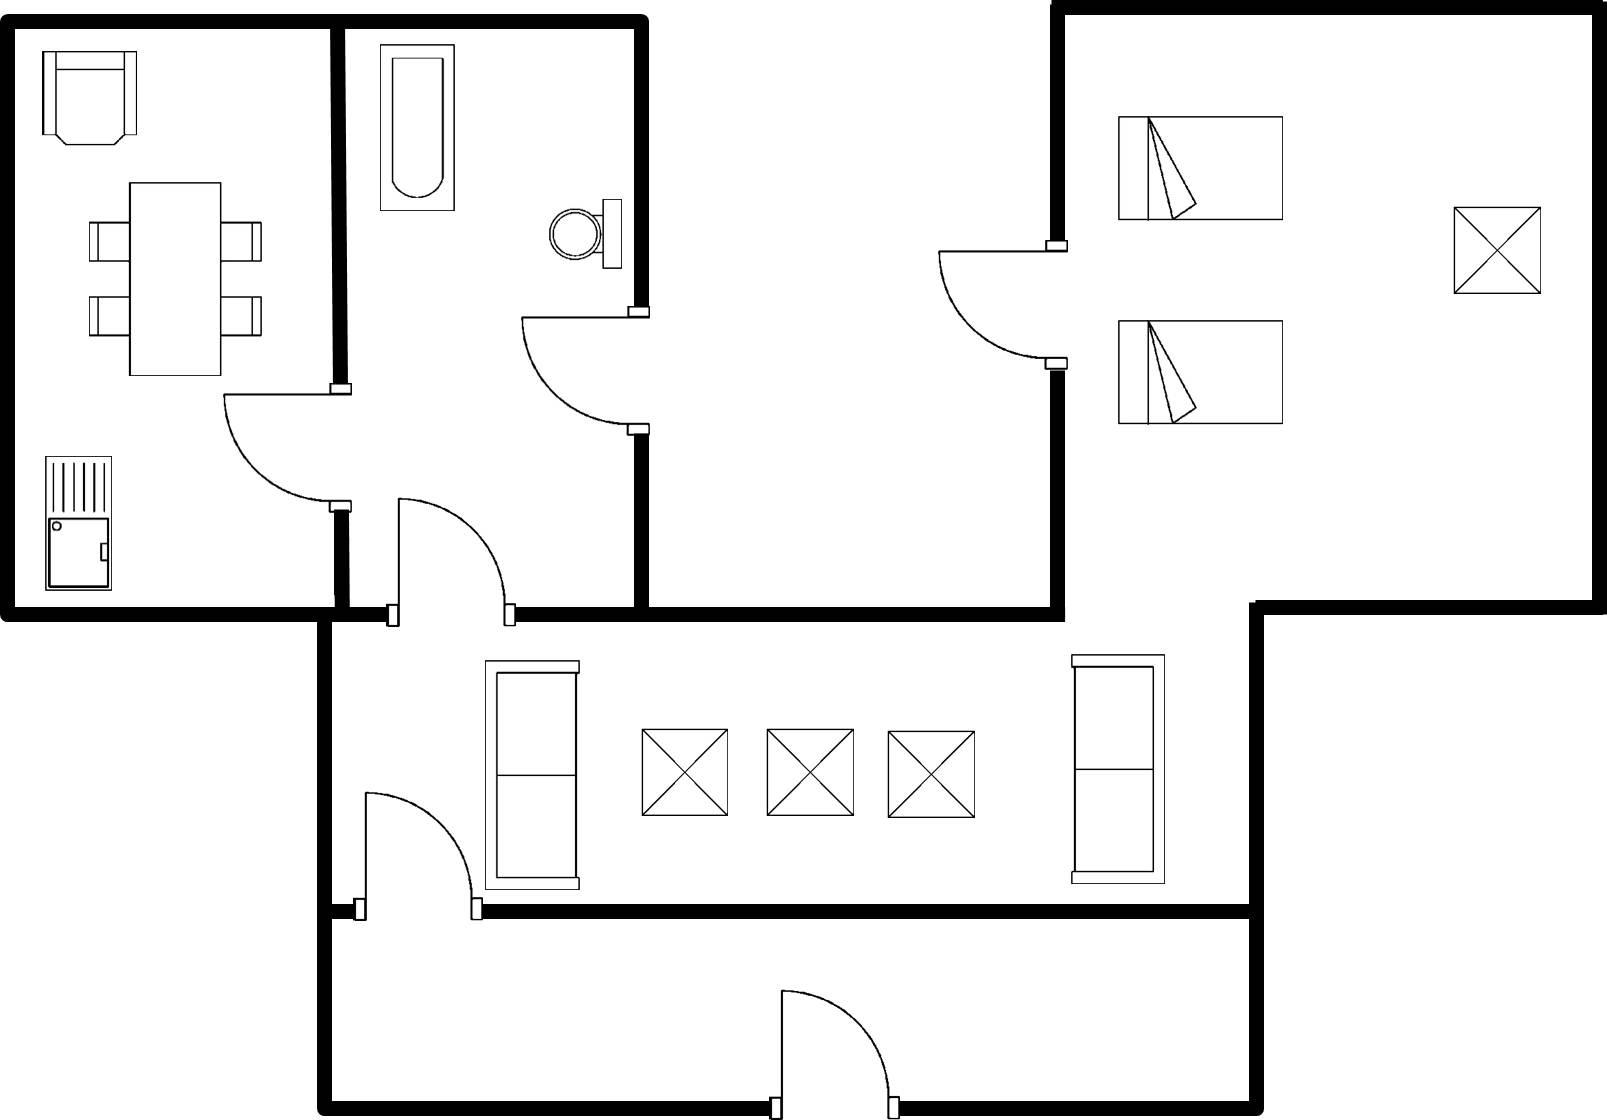bed: (1110, 109, 1292, 232), (1111, 310, 1291, 435)
dining_table: (81, 173, 269, 386)
sink: (35, 445, 118, 596)
sofa: (474, 650, 589, 896), (1061, 644, 1172, 895)
toilet: (536, 188, 626, 276)
tub: (370, 34, 462, 217)
